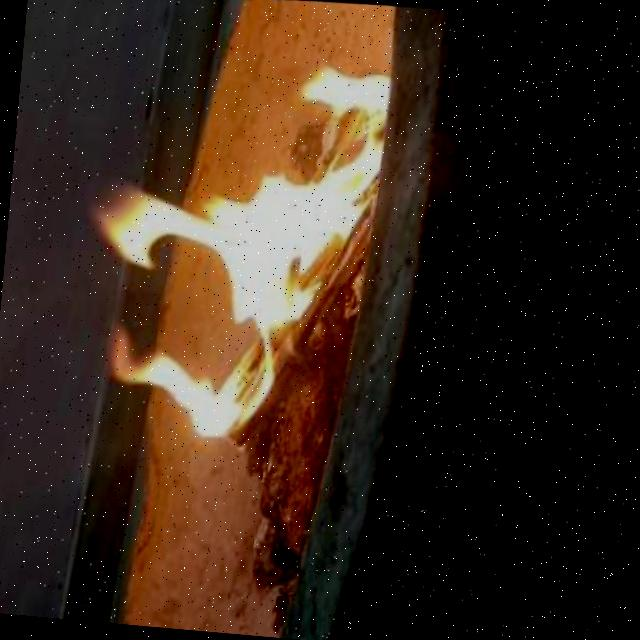fire: (75, 51, 391, 452)
